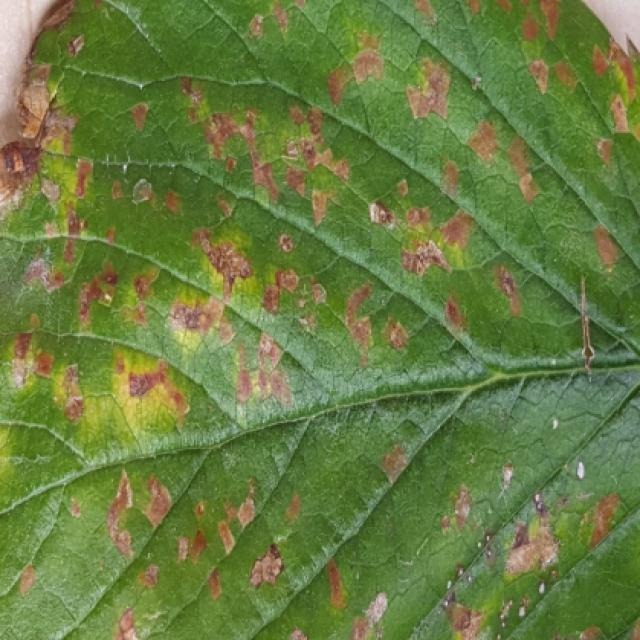Angular Leafspot: (2, 0, 640, 638)
